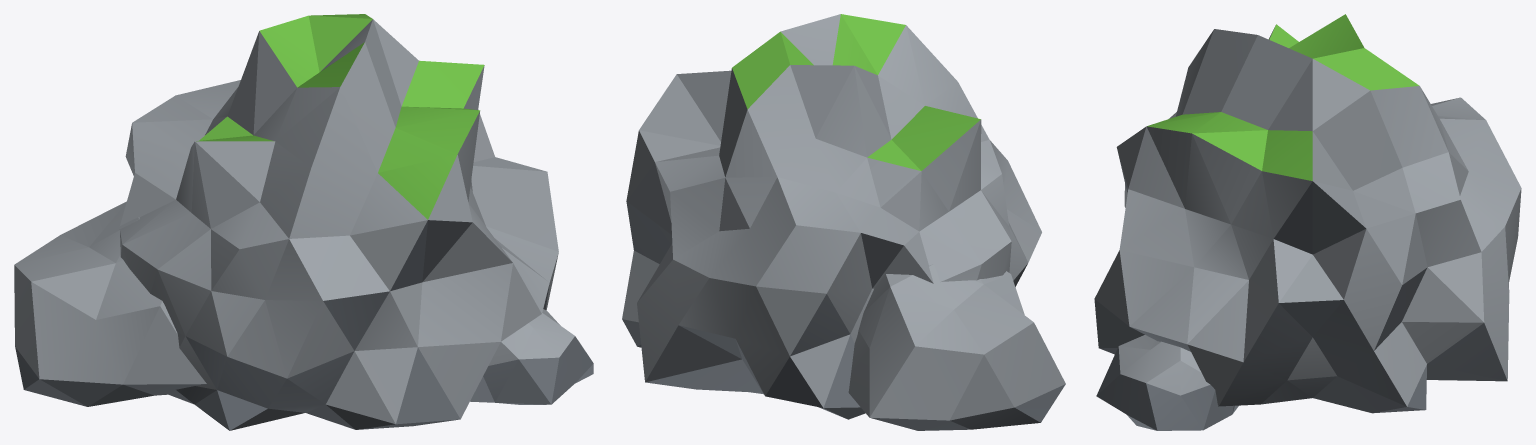
The model's file is RocaGrande.fbx.
3 views of the same model, side by side, from view 1: azimuth 30°, elevation 25°; view 2: azimuth 150°, elevation 25°; view 3: azimuth 270°, elevation 25° (orthographic). The views are drawn at different scales.
Visible parts, largest first — view 1: RocaGrande; view 2: RocaGrande; view 3: RocaGrande.
Boxes of the visible parts, <box> form: RocaGrande: <box>14,14,593,430</box>; RocaGrande: <box>622,14,1065,430</box>; RocaGrande: <box>1094,14,1521,430</box>.
Bounding box in the file's own units: 14.41 × 9.41 × 11.62.
Materials: 1 (1 with a texture image).
